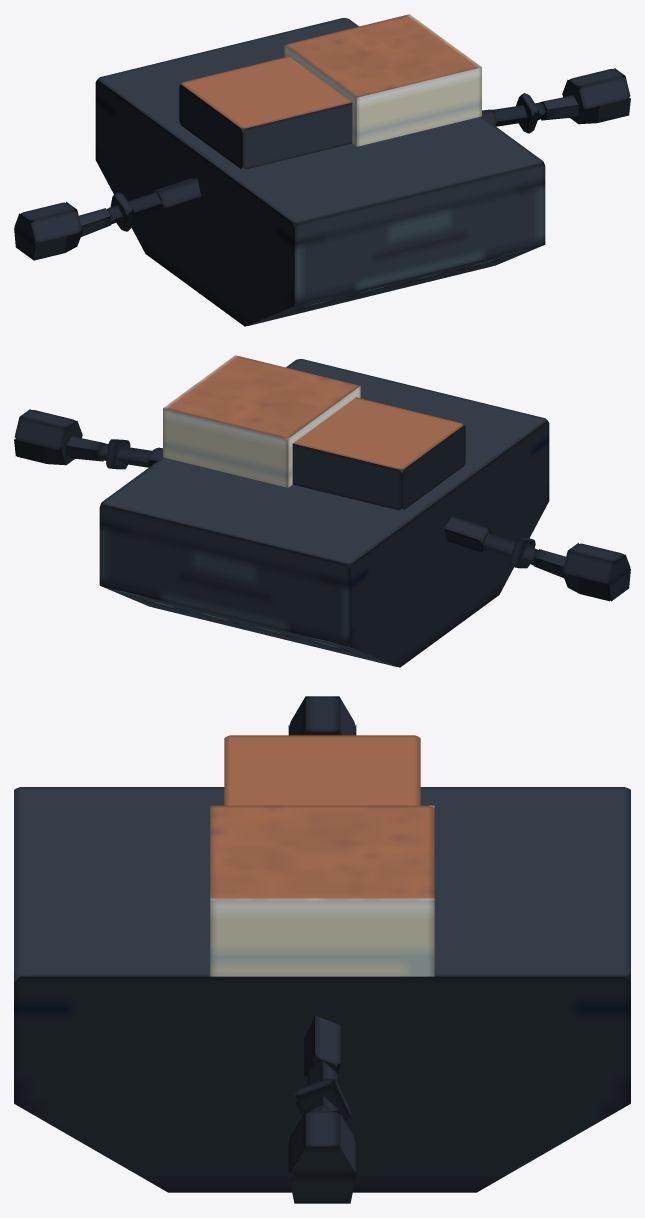
File: dfh21_tank.obj
The picture shows the model from 3 angles, top to bottom: view 1: azimuth 30°, elevation 25°; view 2: azimuth 150°, elevation 25°; view 3: azimuth 270°, elevation 25°; orthographic projection. The views are drawn at different scales.
Parts seen in each view (by area): view 1: cuboid_selection; view 2: cuboid_selection; view 3: cuboid_selection.
Boxes of the visible parts, <box> form: cuboid_selection: <box>14,14,630,326</box>; cuboid_selection: <box>14,355,630,667</box>; cuboid_selection: <box>14,696,630,1203</box>.
Bounding box in the file's own units: 4.75 × 1.44 × 2.75.
